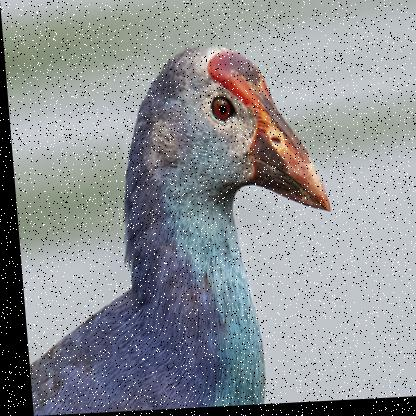Burung: (4, 43, 342, 414)
